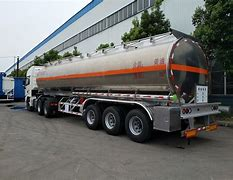oil truck: (18, 27, 213, 145)
